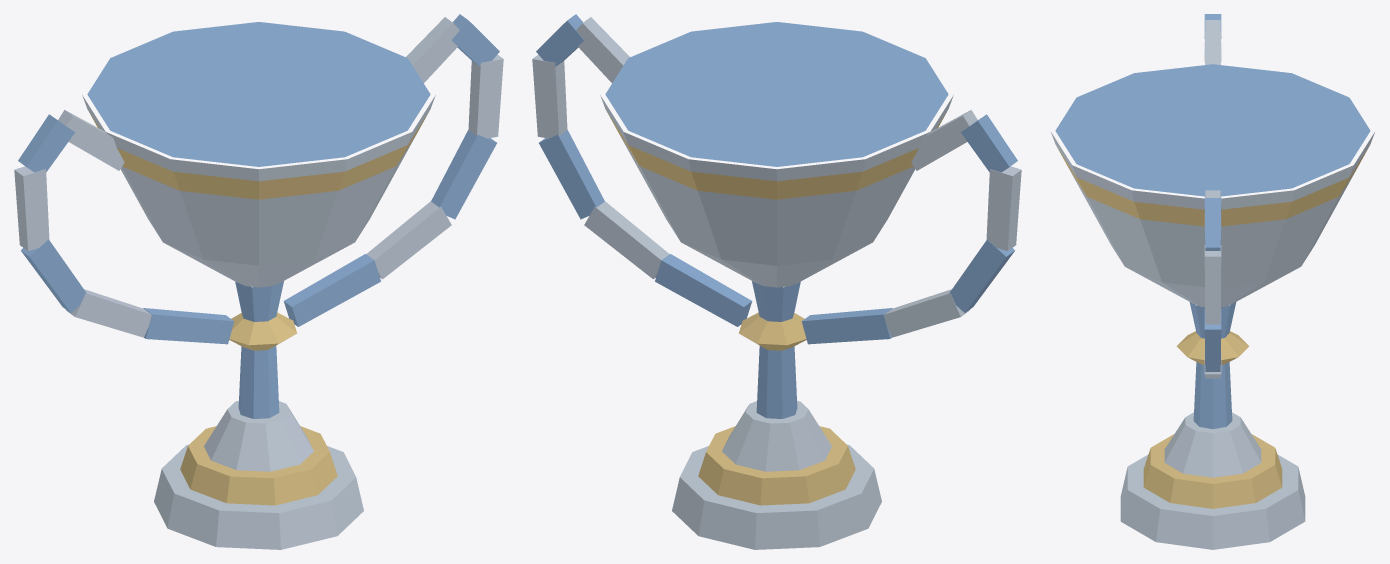
File: tl_env_shrine_trophy_v01.glb
3 renders of one model, left to right at view 1: azimuth 30°, elevation 25°; view 2: azimuth 150°, elevation 25°; view 3: azimuth 270°, elevation 25°, orthographic. The views are drawn at different scales.
Visible parts, largest first — view 1: tl_env_shrine_trophy_v01; view 2: tl_env_shrine_trophy_v01; view 3: tl_env_shrine_trophy_v01.
Boxes of the visible parts, x1,y1,x2,y2 form: tl_env_shrine_trophy_v01: (14,14,503,549); tl_env_shrine_trophy_v01: (532,14,1021,549); tl_env_shrine_trophy_v01: (1051,14,1374,549).
Size of the model in its own units: 1.05 by 0.9186 by 0.67.
